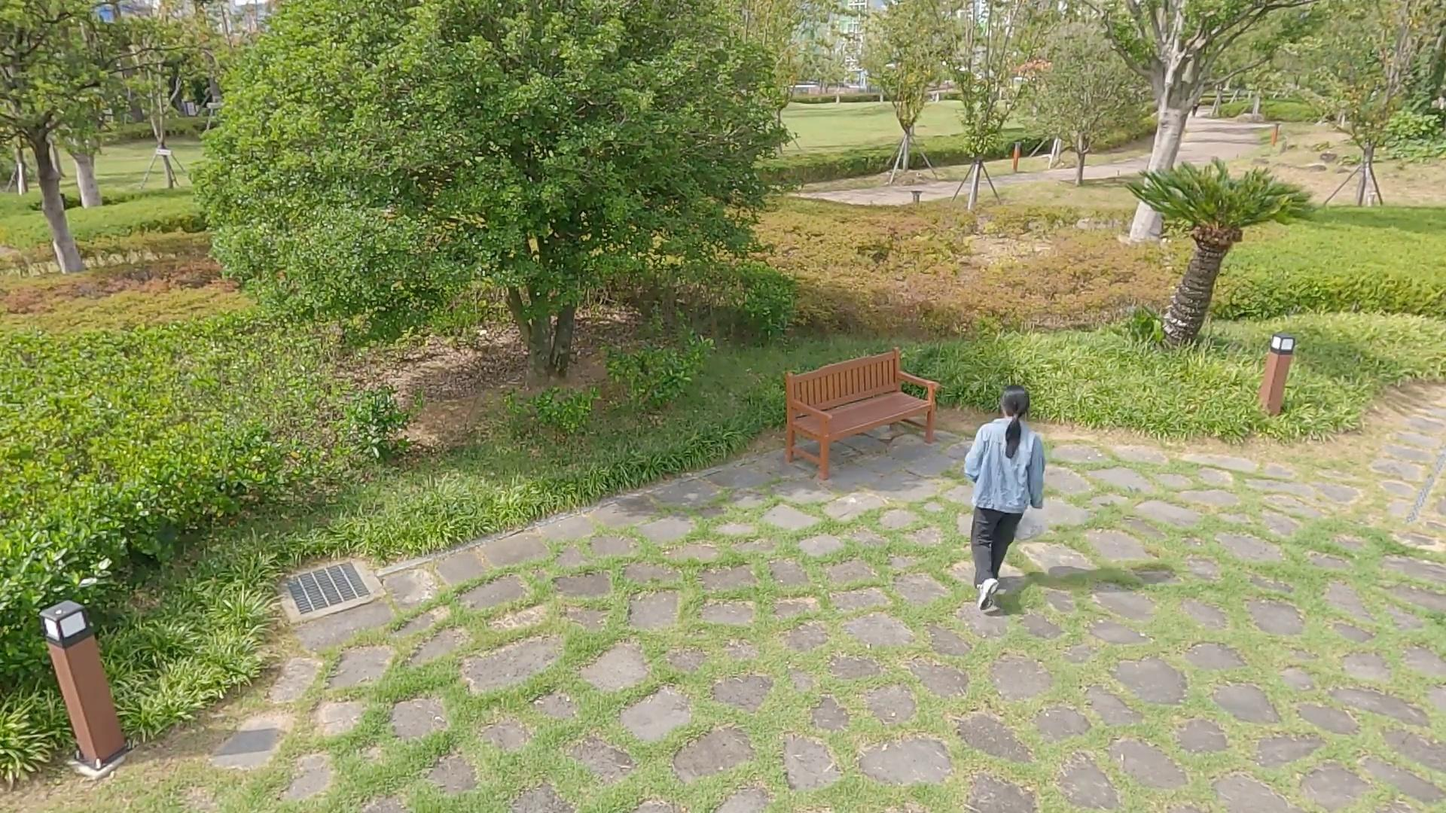person: (963, 383, 1049, 612)
